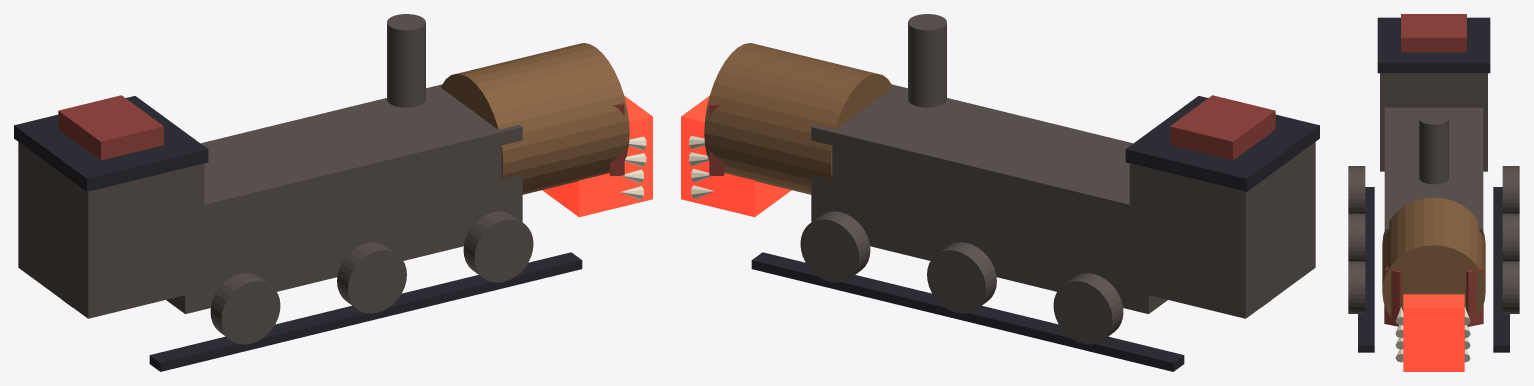
Rendered from train_devourer.glb.
The picture shows the model from 3 angles, left to right: view 1: azimuth 30°, elevation 25°; view 2: azimuth 150°, elevation 25°; view 3: azimuth 270°, elevation 25°; orthographic projection. The views are drawn at different scales.
Parts seen in each view (by area): view 1: Hull, Cabin, Snout, RightRail, Roof, Biomass, MouthCavity, Wheel.005, Wheel.001, Wheel.003, Chimney; view 2: Hull, Cabin, Snout, LeftRail, Roof, Biomass, MouthCavity, Wheel.004, Wheel, Wheel.002, Chimney; view 3: Snout, Hull, MouthCavity, Cabin, Roof, Biomass, Chimney, LeftRail, RightRail, Wheel.004, Wheel.005, Wheel.002 (+9 smaller).
Part boxes in pixels (box(x1,y1,x2,y2)): Hull: box(166, 84, 522, 313); Cabin: box(18, 142, 204, 318); Snout: box(441, 43, 629, 194); RightRail: box(149, 252, 582, 371); Roof: box(14, 96, 208, 191); Biomass: box(58, 95, 163, 160); MouthCavity: box(542, 96, 652, 217); Wheel.005: box(463, 211, 533, 282); Wheel.001: box(210, 273, 280, 344); Wheel.003: box(337, 242, 406, 313); Chimney: box(387, 14, 425, 107); Hull: box(811, 84, 1167, 313); Cabin: box(1129, 142, 1315, 318); Snout: box(704, 43, 892, 194); LeftRail: box(751, 252, 1184, 371); Roof: box(1125, 96, 1319, 191); Biomass: box(1170, 95, 1275, 160); MouthCavity: box(681, 96, 791, 217); Wheel.004: box(800, 211, 870, 282); Wheel: box(1053, 273, 1123, 344); Wheel.002: box(927, 242, 996, 313); Chimney: box(908, 14, 946, 107); Snout: box(1382, 197, 1485, 317); Hull: box(1384, 107, 1483, 238); MouthCavity: box(1403, 294, 1464, 371); Cabin: box(1380, 73, 1487, 171); Roof: box(1377, 17, 1490, 73); Biomass: box(1401, 14, 1466, 52); Chimney: box(1419, 112, 1448, 184); LeftRail: box(1493, 187, 1509, 352); RightRail: box(1358, 187, 1374, 352); Wheel.004: box(1502, 261, 1519, 313); Wheel.005: box(1348, 261, 1365, 313); Wheel.002: box(1502, 213, 1519, 261).
Bounding box in the file's own units: 5.52 × 2.19 × 1.82.
